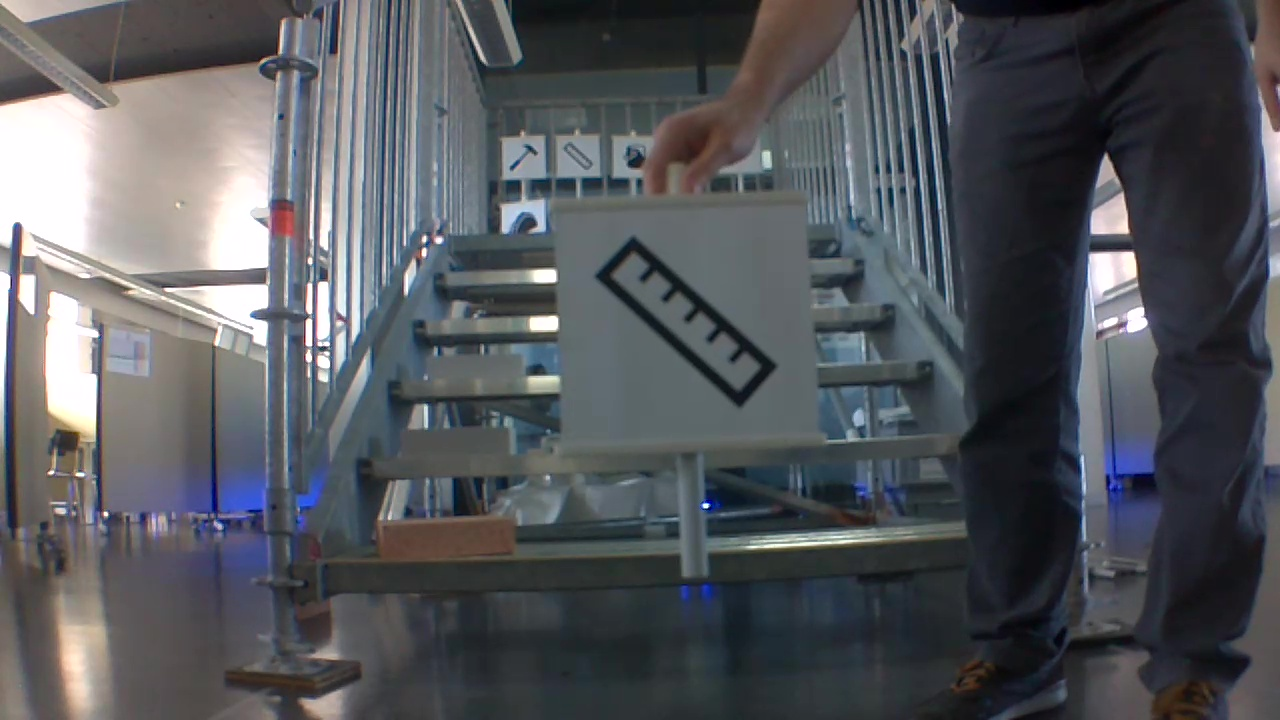brick: (371, 516, 513, 555), (400, 424, 515, 457), (427, 353, 527, 375)
bucket: (620, 143, 649, 172)
edge: (326, 525, 973, 584), (363, 443, 952, 480)
hammer: (510, 140, 540, 172)
ruler: (591, 231, 784, 410), (562, 139, 598, 172)
taco: (510, 210, 539, 235)
